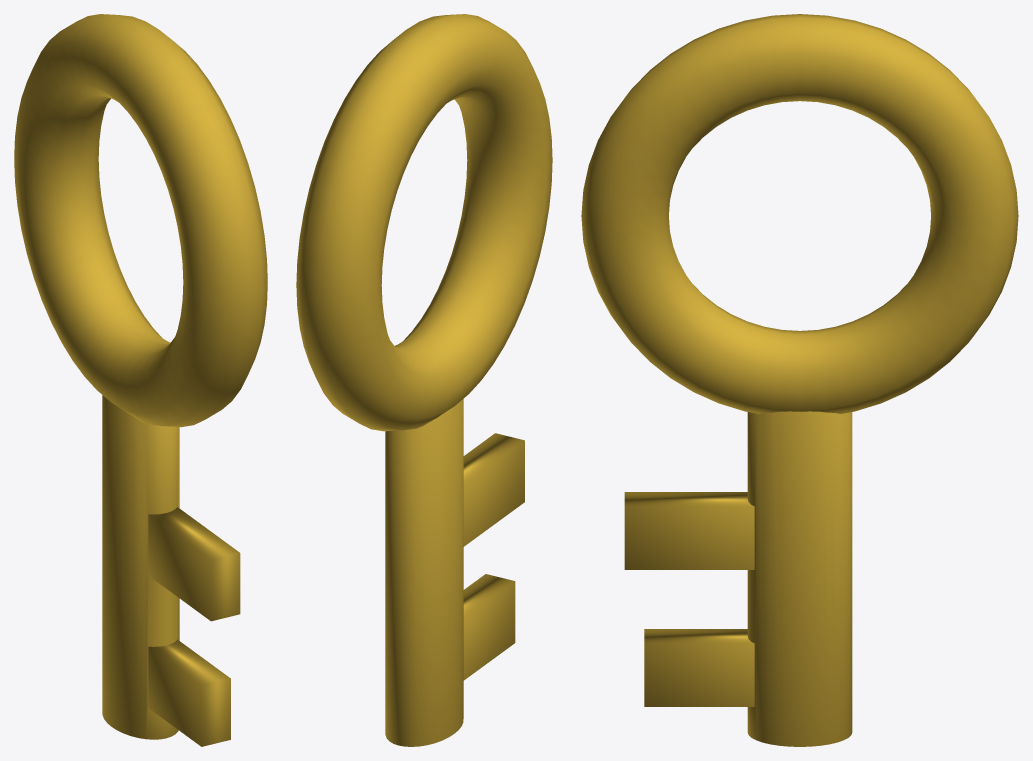
Rendered from Gold_Key.fbx.
The picture shows the model from 3 angles, left to right: view 1: azimuth 30°, elevation 25°; view 2: azimuth 150°, elevation 25°; view 3: azimuth 270°, elevation 25°; orthographic projection. The views are drawn at different scales.
Parts seen in each view (by area): view 1: Cylinder; view 2: Cylinder; view 3: Cylinder.
Part boxes in pixels (x1,y1,x2,y2): Cylinder: (14, 14, 267, 746); Cylinder: (296, 14, 552, 746); Cylinder: (581, 14, 1018, 746).
Size of the model in its own units: 50 by 451 by 250.
